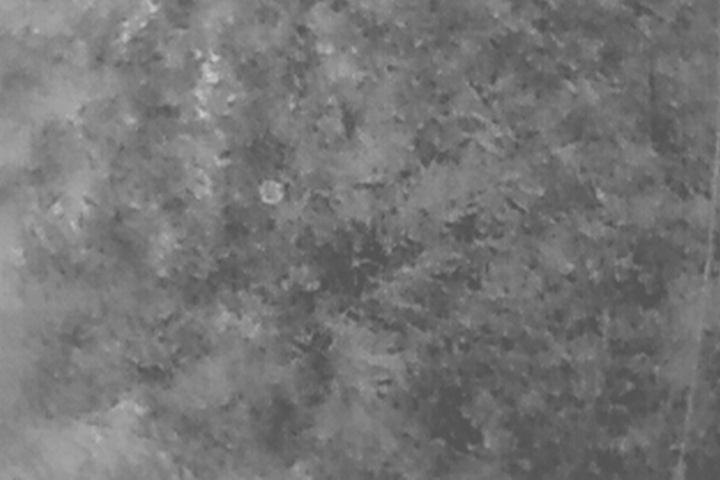landmine: (256, 177, 287, 205)
